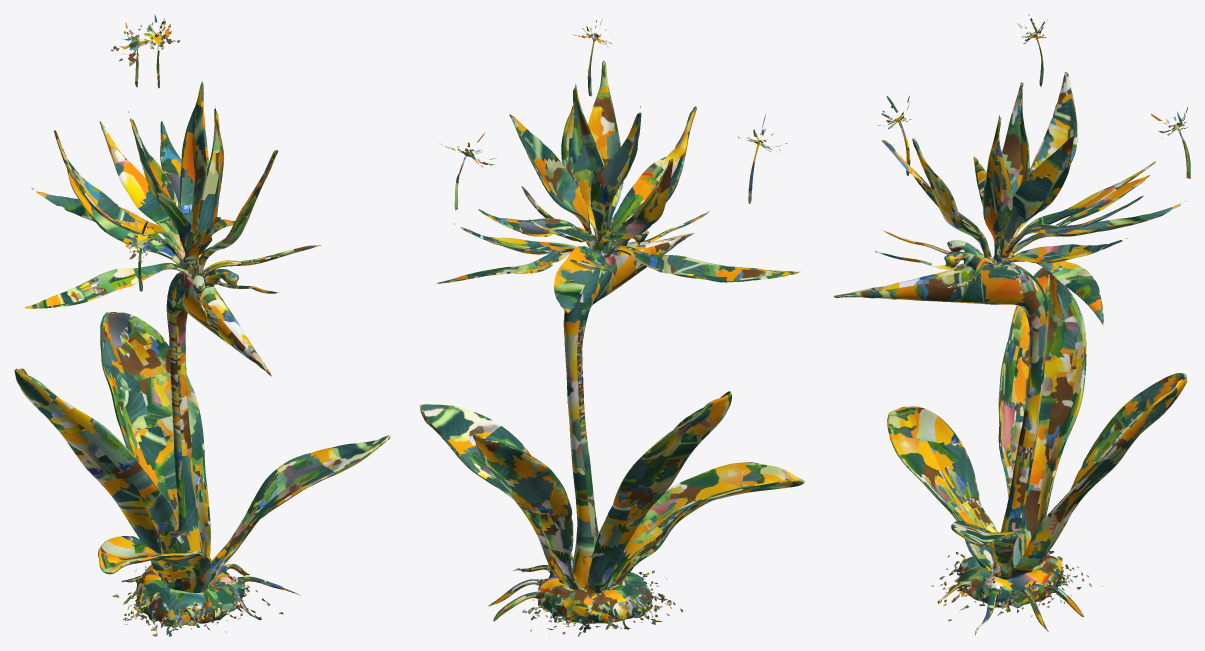
Rendered from veg_tropical_birdofparadise_01.obj.
3 views of the same model, side by side, from view 1: azimuth 30°, elevation 25°; view 2: azimuth 150°, elevation 25°; view 3: azimuth 270°, elevation 25° (orthographic). The views are drawn at different scales.
Parts seen in each view (by area): view 1: veg_tropical_birdofparadise_01; view 2: veg_tropical_birdofparadise_01; view 3: veg_tropical_birdofparadise_01.
Part boxes in pixels (box(x1,y1,x2,y2)): veg_tropical_birdofparadise_01: box(14, 14, 390, 636); veg_tropical_birdofparadise_01: box(419, 18, 804, 636); veg_tropical_birdofparadise_01: box(833, 14, 1190, 635).
Bounding box in the file's own units: 1.85 × 2.83 × 1.6.
1 material, 1 textured.
